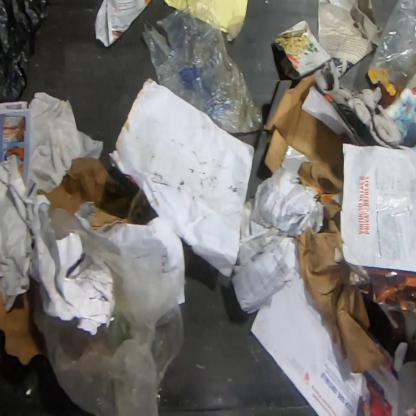cardboard: (262, 72, 367, 219), (296, 219, 391, 375), (36, 156, 146, 232), (0, 290, 47, 366), (164, 0, 191, 9)
soft_plastic: (25, 207, 185, 416), (141, 0, 264, 135), (0, 0, 50, 104), (367, 0, 415, 99)
